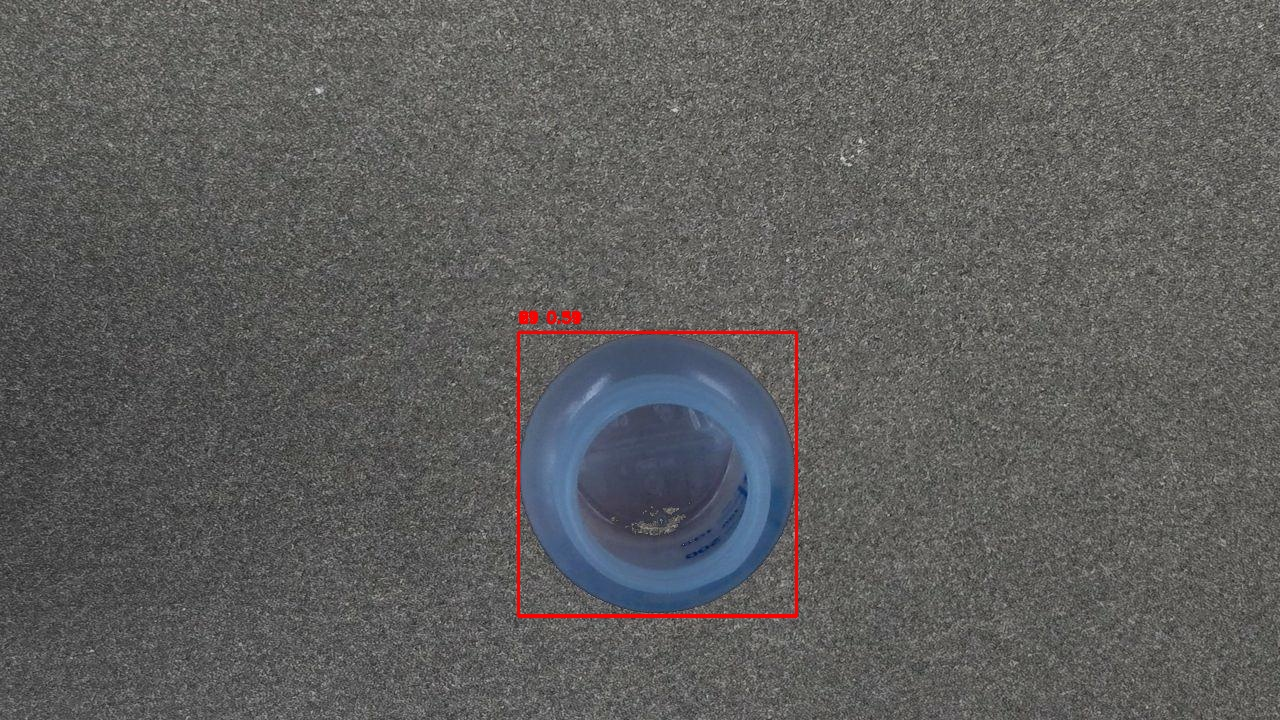cup: (518, 332, 796, 616), (518, 332, 796, 615)
